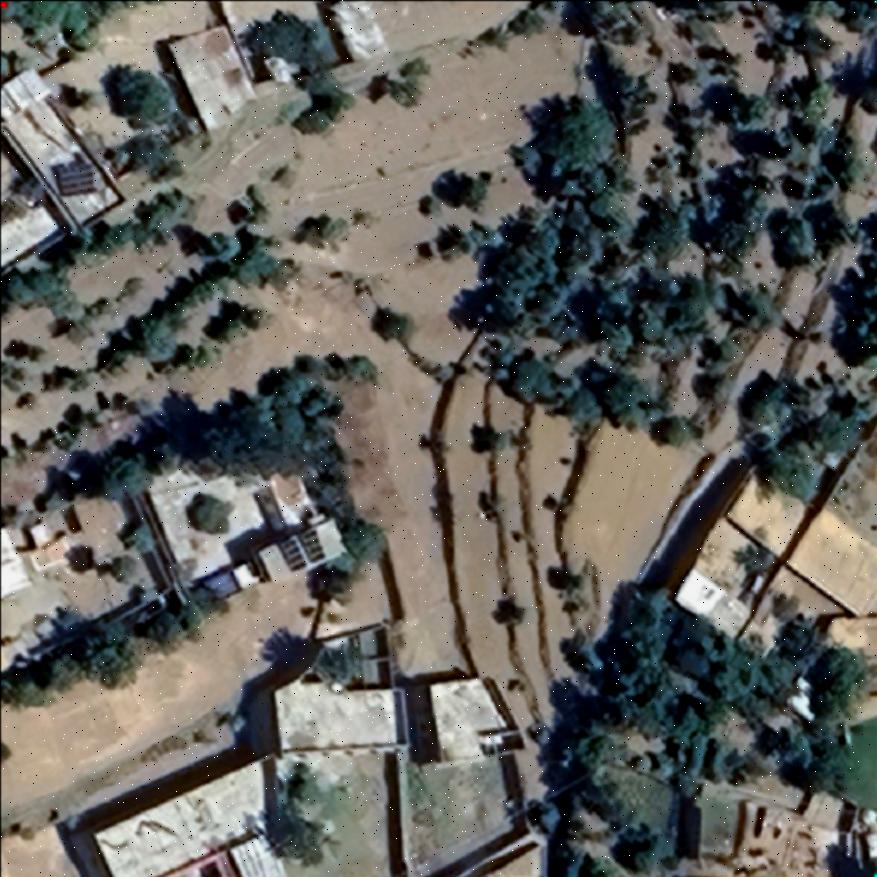Solarpanel: (52, 156, 98, 197), (271, 534, 307, 576), (298, 525, 327, 561)
